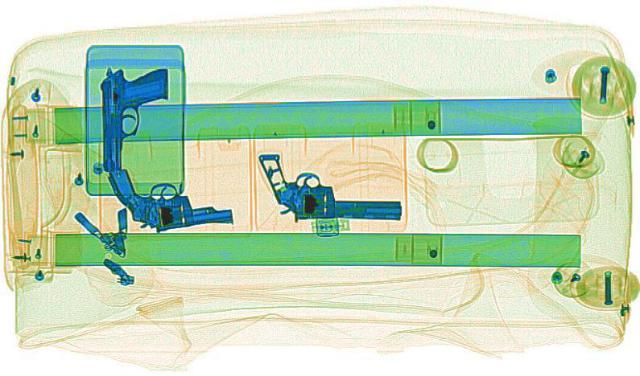Gun: (100, 156, 238, 234), (256, 152, 399, 216), (94, 65, 178, 170)
